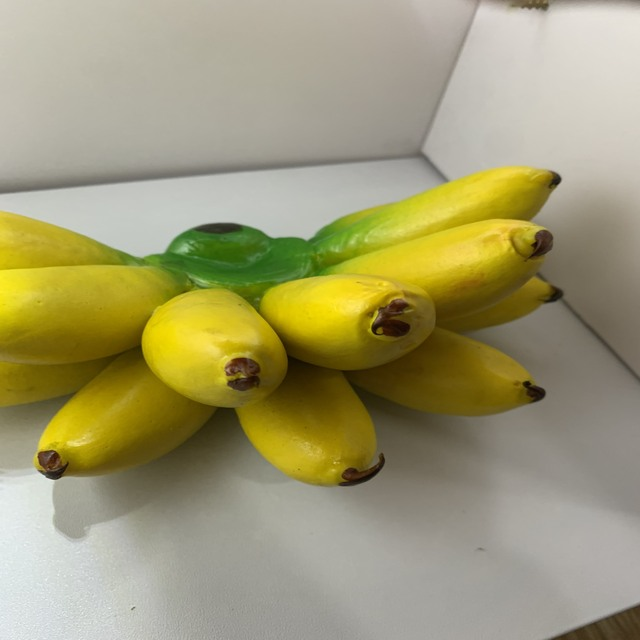Chuoi: (0, 161, 565, 489)
